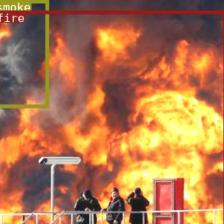fire: (0, 9, 224, 224)
smoke: (0, 0, 48, 107)
